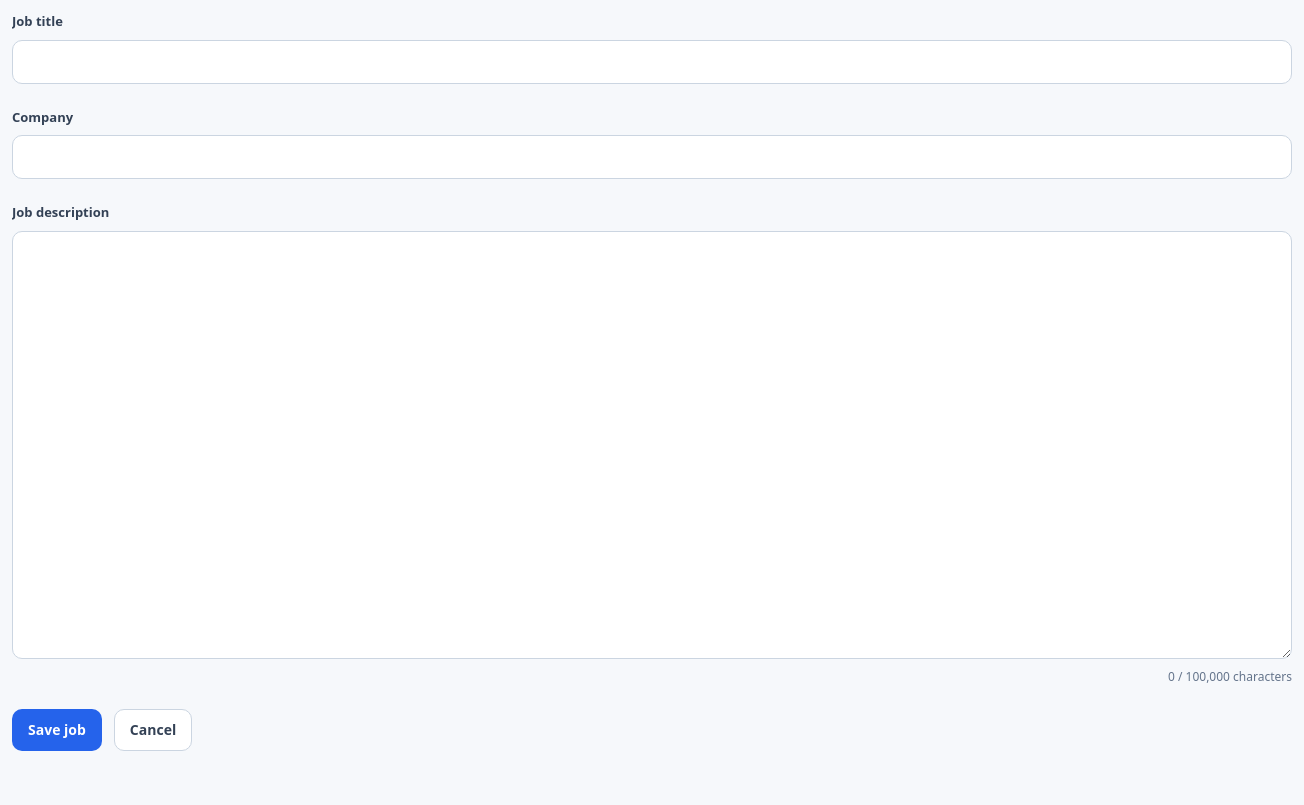
JobEditor › shows client validation errors without sending a request
Click the button "Save job".
click(57, 730)  # box [12, 708, 102, 750]
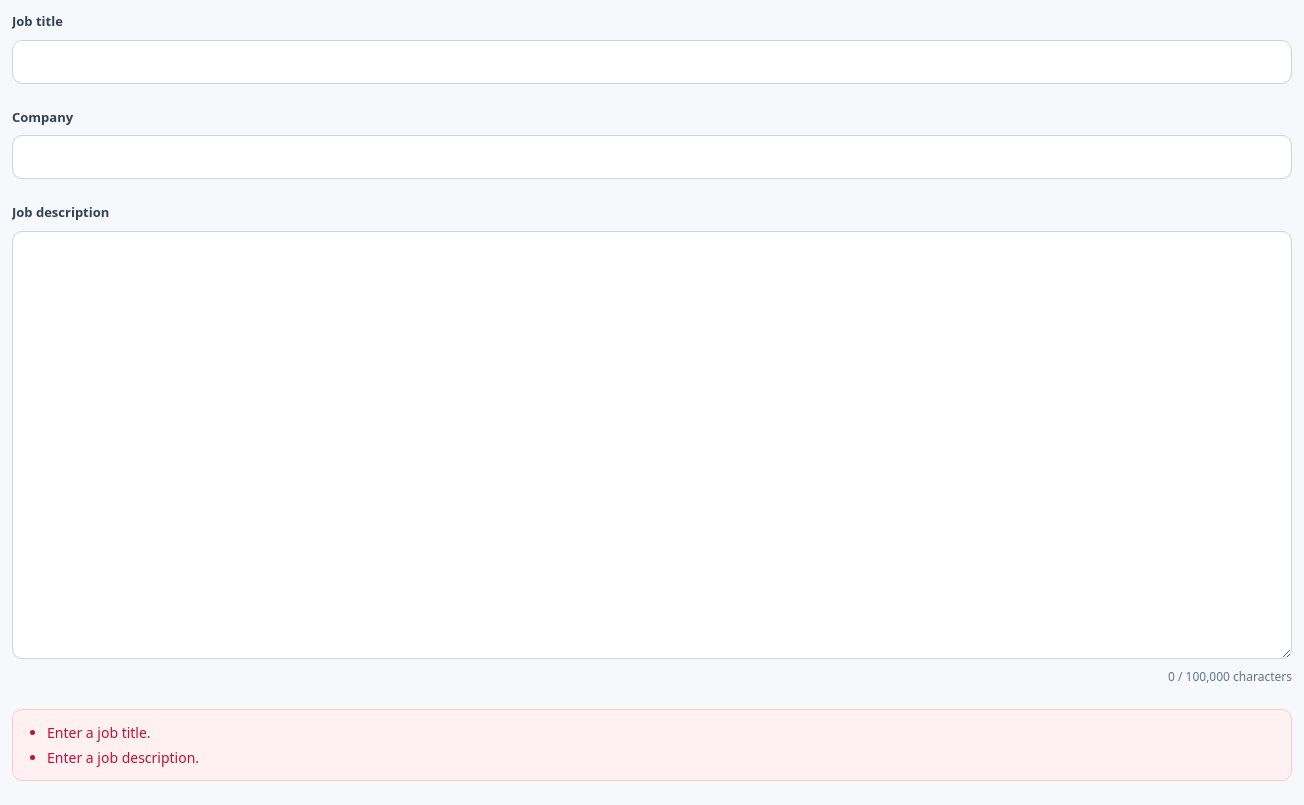
Result: the message shows "Enter a job title." at [47, 722, 151, 742]
Result: the message shows "Enter a job description." at [47, 748, 199, 766]
